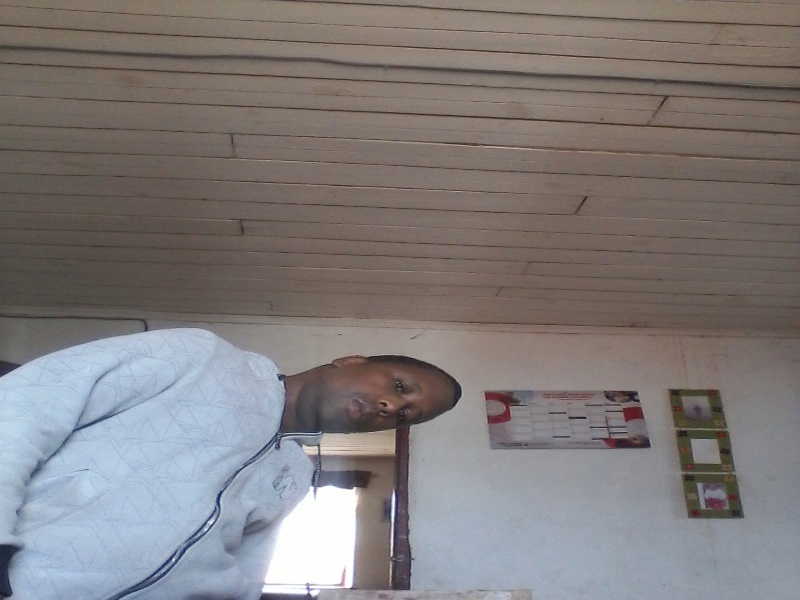TsisyArotava: (304, 335, 472, 453)
